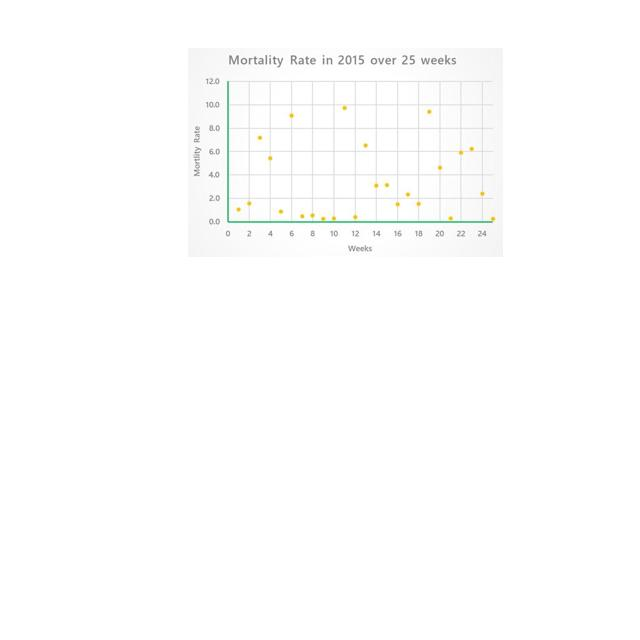Graph: (188, 48, 503, 257)
